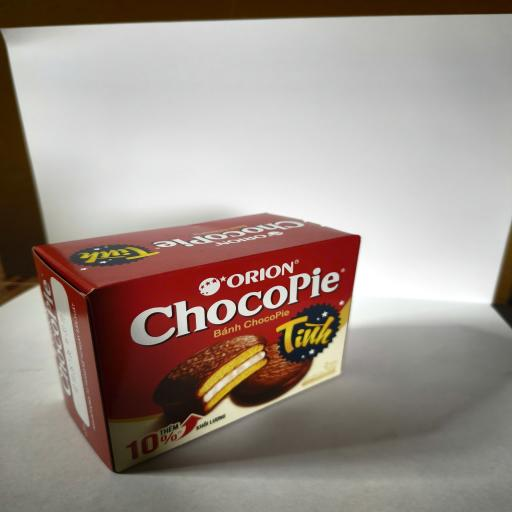chocopie: (32, 213, 361, 473)
